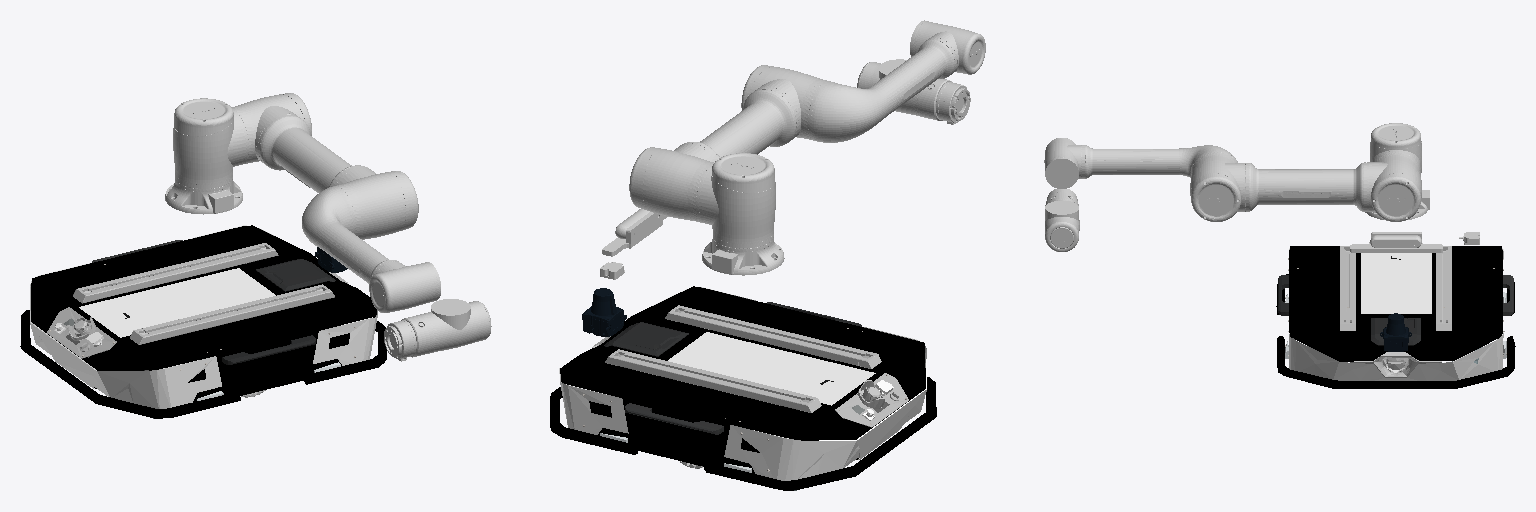
The robot description file, URDF, robot "tracer_jaka_zu5":
<?xml version="1.0"?>
<robot name="tracer_jaka_zu5">

  <link name="base_link">
    <visual>
      <origin xyz="0 0 0" rpy="1.57 0 0" />
      <geometry>
        <mesh filename="package://tracer_jaka_mujoco/urdf/meshes/tracer_base_link_no_wheel.dae" />
      </geometry>
    </visual>
    <collision name="base_collision_1">
      <origin xyz="0.2 -0.17 0.07" rpy="0 0 0" />
      <geometry>
        <sphere radius="0.17" />
      </geometry>
    </collision>
    <collision name="base_collision_2">
      <origin xyz="-0.2 -0.17 0.07" rpy="0 0 0" />
      <geometry>
        <sphere radius="0.17" />
      </geometry>
    </collision>
    <collision name="base_collision_3">
      <origin xyz="-0.2 0.17 0.07" rpy="0 0 0" />
      <geometry>
        <sphere radius="0.17" />
      </geometry>
    </collision>
    <collision name="base_collision_4">
      <origin xyz="0.2 0.17 0.07" rpy="0 0 0" />
      <geometry>
        <sphere radius="0.17" />
      </geometry>
    </collision>
    <inertial>
      <origin xyz="0 0 0" rpy="0 0 0" />
      <mass value="10" />
      <inertia ixx="0.01" ixy="0" ixz="0" iyy="0.01" iyz="0" izz="0.01" />
    </inertial>
  </link>

  <link name="inertial_link">
    <inertial>
      <origin xyz="0.015 0.0231317 0" rpy="0 0 0" />
      <mass value="132.389849" />
      <inertia ixx="0.1851961" ixy="0" ixz="0.0000001" iyy="0.3648937" iyz="-0.0003867" izz="0.2238685" />
    </inertial>
  </link>

  <link name="right_wheel_link">
    <visual>
      <origin xyz="0 0 0" rpy="0 0 0" />
      <geometry>
        <mesh filename="package://tracer_jaka_mujoco/urdf/meshes/tracer_wheel.dae" />
      </geometry>
    </visual>
    <inertial>
      <origin xyz="0 0 0" rpy="0 0 0" />
      <mass value="6" />
      <inertia ixx="0.7171" ixy="0" ixz="0" iyy="0.1361" iyz="0" izz="0.7171" />
    </inertial>
  </link>

  <link name="left_wheel_link">
    <visual>
      <origin xyz="0 0 0" rpy="0 0 0" />
      <geometry>
        <mesh filename="package://tracer_jaka_mujoco/urdf/meshes/tracer_wheel.dae" />
      </geometry>
    </visual>
    <inertial>
      <origin xyz="0 0 0" rpy="0 0 0" />
      <mass value="6" />
      <inertia ixx="0.7171" ixy="0" ixz="0" iyy="0.1361" iyz="0" izz="0.7171" />
    </inertial>
  </link>

  <link name="fl_castor_link">
    <visual>
      <origin xyz="0 0 0" rpy="0 0 0" />
      <geometry>
        <mesh filename="package://tracer_jaka_mujoco/urdf/meshes/castor_joint.dae" />
      </geometry>
    </visual>
    <inertial>
      <origin xyz="0 0 0" rpy="0 0 0" />
      <mass value="0.5" />
      <inertia ixx="0.001" ixy="0" ixz="0" iyy="0.001" iyz="0" izz="0.001" />
    </inertial>
  </link>

  <link name="fl_wheel_link">
    <visual>
      <origin xyz="0 0 0" rpy="0 0 0" />
      <geometry>
        <mesh filename="package://tracer_jaka_mujoco/urdf/meshes/castor.dae" />
      </geometry>
    </visual>
    <inertial>
      <origin xyz="0 0 0" rpy="0 0 0" />
      <mass value="0.3" />
      <inertia ixx="0.0001" ixy="0" ixz="0" iyy="0.0001" iyz="0" izz="0.0001" />
    </inertial>
  </link>

  <link name="fr_castor_link">
    <visual>
      <origin xyz="0 0 0" rpy="0 0 0" />
      <geometry>
        <mesh filename="package://tracer_jaka_mujoco/urdf/meshes/castor_joint.dae" />
      </geometry>
    </visual>
    <inertial>
      <origin xyz="0 0 0" rpy="0 0 0" />
      <mass value="0.5" />
      <inertia ixx="0.001" ixy="0" ixz="0" iyy="0.001" iyz="0" izz="0.001" />
    </inertial>
  </link>

  <link name="fr_wheel_link">
    <visual>
      <origin xyz="0 0 0" rpy="0 0 0" />
      <geometry>
        <mesh filename="package://tracer_jaka_mujoco/urdf/meshes/castor.dae" />
      </geometry>
    </visual>
    <inertial>
      <origin xyz="0 0 0" rpy="0 0 0" />
      <mass value="0.3" />
      <inertia ixx="0.0001" ixy="0" ixz="0" iyy="0.0001" iyz="0" izz="0.0001" />
    </inertial>
  </link>

  <link name="rr_castor_link">
    <visual>
      <origin xyz="0 0 0" rpy="0 0 0" />
      <geometry>
        <mesh filename="package://tracer_jaka_mujoco/urdf/meshes/castor_joint.dae" />
      </geometry>
    </visual>
    <inertial>
      <origin xyz="0 0 0" rpy="0 0 0" />
      <mass value="0.5" />
      <inertia ixx="0.001" ixy="0" ixz="0" iyy="0.001" iyz="0" izz="0.001" />
    </inertial>
  </link>

  <link name="rr_wheel_link">
    <visual>
      <origin xyz="0 0 0" rpy="0 0 0" />
      <geometry>
        <mesh filename="package://tracer_jaka_mujoco/urdf/meshes/castor.dae" />
      </geometry>
    </visual>
    <inertial>
      <origin xyz="0 0 0" rpy="0 0 0" />
      <mass value="0.3" />
      <inertia ixx="0.0001" ixy="0" ixz="0" iyy="0.0001" iyz="0" izz="0.0001" />
    </inertial>
  </link>

  <link name="rl_castor_link">
    <visual>
      <origin xyz="0 0 0" rpy="0 0 0" />
      <geometry>
        <mesh filename="package://tracer_jaka_mujoco/urdf/meshes/castor_joint.dae" />
      </geometry>
    </visual>
    <inertial>
      <origin xyz="0 0 0" rpy="0 0 0" />
      <mass value="0.5" />
      <inertia ixx="0.001" ixy="0" ixz="0" iyy="0.001" iyz="0" izz="0.001" />
    </inertial>
  </link>

  <link name="rl_wheel_link">
    <visual>
      <origin xyz="0 0 0" rpy="0 0 0" />
      <geometry>
        <mesh filename="package://tracer_jaka_mujoco/urdf/meshes/castor.dae" />
      </geometry>
    </visual>
    <inertial>
      <origin xyz="0 0 0" rpy="0 0 0" />
      <mass value="0.3" />
      <inertia ixx="0.0001" ixy="0" ixz="0" iyy="0.0001" iyz="0" izz="0.0001" />
    </inertial>
  </link>

  <link name="aluminium_base_link">
    <visual>
      <origin xyz="0 0 0" rpy="0 0 0" />
      <geometry>
        <mesh filename="package://tracer_jaka_mujoco/urdf/meshes/aluminium_base_link.STL" />
      </geometry>
      <material name="white">
        <color rgba="0.89412157 0.91372941 0.92549412 1.00000000"/>
      </material>
    </visual>
    <inertial>
      <origin xyz="0 0 0.1" rpy="0 0 0" />
      <mass value="0.2527392" />
      <inertia ixx="0.0008804" ixy="0" ixz="0" iyy="0.000884" iyz="0" izz="0.0000795" />
    </inertial>
  </link>

  <link name="aluminium_2_base_link">
    <visual>
      <origin xyz="0 0 0" rpy="0 0 0" />
      <geometry>
        <mesh filename="package://tracer_jaka_mujoco/urdf/meshes/aluminium_base_link.STL" />
      </geometry>
      <material name="white">
        <color rgba="0.89412157 0.91372941 0.92549412 1.00000000"/>
      </material>
    </visual>
    <inertial>
      <origin xyz="0 0 0.1" rpy="0 0 0" />
      <mass value="0.2527392" />
      <inertia ixx="0.0008804" ixy="0" ixz="0" iyy="0.000884" iyz="0" izz="0.0000795" />
    </inertial>
  </link>

  <link name="aluminium_3_base_link">
    <visual>
      <origin xyz="0 0 0" rpy="0 0 0" />
      <geometry>
        <mesh filename="package://tracer_jaka_mujoco/urdf/meshes/aluminium_base_link.STL" />
      </geometry>
      <material name="white">
        <color rgba="0.89412157 0.91372941 0.92549412 1.00000000"/>
      </material>
    </visual>
    <inertial>
      <origin xyz="0 0 0.1" rpy="0 0 0" />
      <mass value="0.2527392" />
      <inertia ixx="0.0008804" ixy="0" ixz="0" iyy="0.000884" iyz="0" izz="0.0000795" />
    </inertial>
  </link>

  <link name="aluminium_4_base_link">
    <visual>
      <origin xyz="0 0 0" rpy="0 0 0" />
      <geometry>
        <mesh filename="package://tracer_jaka_mujoco/urdf/meshes/aluminium_base_link.STL" />
      </geometry>
      <material name="white">
        <color rgba="0.89412157 0.91372941 0.92549412 1.00000000"/>
      </material>
    </visual>
    <inertial>
      <origin xyz="0 0 0.1" rpy="0 0 0" />
      <mass value="0.2527392" />
      <inertia ixx="0.0008804" ixy="0" ixz="0" iyy="0.000884" iyz="0" izz="0.0000795" />
    </inertial>
  </link>

  <link name="urbase_base_link">
    <visual>
      <origin xyz="0 0 0" rpy="0 0 3.14" />
      <geometry>
        <mesh filename="package://tracer_jaka_mujoco/urdf/meshes/urbase_base_link.STL" />
      </geometry>
      <material name="plate_white">
        <color rgba="1.00000000 1.00000000 1.00000000 1.00000000"/>
      </material>
    </visual>
    <inertial>
      <origin xyz="-0.0821499 0 -0.0025001" rpy="0 0 0" />
      <mass value="0.9659606" />
      <inertia ixx="0.0122165" ixy="0" ixz="0" iyy="0.027604" iyz="0" izz="0.0398165" />
    </inertial>
  </link>

  <link name="base_footprint">
  </link>

  <link name="laser_link">
    <visual>
      <!-- Keep the CAD appearance rotated without rotating the scan frame. -->
      <origin xyz="0 0 0" rpy="0 0 3.1415" />
      <geometry>
        <!-- CAD mesh is in millimetres; laser_link remains at the scan origin. -->
        <mesh filename="package://tracer_jaka_mujoco/urdf/meshes/laser.STL" scale="0.001 0.001 0.001" />
      </geometry>
      <material name="lidar_dark"><color rgba="0.08 0.12 0.16 1" /></material>
    </visual>
  </link>



  <link name="jaka_base_link">
  </link>

  <link name="Link_0">
    <visual>
      <origin xyz="0 0 0" rpy="0 0 0" />
      <geometry>
        <mesh filename="package://tracer_jaka_mujoco/urdf/meshes/Link_0.STL" />
      </geometry>
      <material name="silver">
        <color rgba="0.84706275 0.84706275 0.84706275 1.00000000"/>
      </material>
    </visual>
    <collision name="link0_sphere">
      <origin xyz="0 0 0.12" rpy="0 0 0" />
      <geometry>
        <sphere radius="0.085" />
      </geometry>
    </collision>
    <inertial>
      <origin xyz="0.0009637 0 0.019555" rpy="0 0 0" />
      <mass value="1.0392" />
      <inertia ixx="0.0048763" ixy="0" ixz="0" iyy="0.0068003" iyz="0" izz="0.010618" />
    </inertial>
  </link>

  <link name="Link_1">
    <visual>
      <origin xyz="0 0 0" rpy="0 0 0" />
      <geometry>
        <mesh filename="package://tracer_jaka_mujoco/urdf/meshes/Link_1.STL" />
      </geometry>
      <material name="silver">
      </material>
    </visual>
    <collision name="link1_sphere">
      <origin xyz="0 0.17 0" rpy="0 0 0" />
      <geometry>
        <sphere radius="0.075" />
      </geometry>
    </collision>
    <inertial>
      <origin xyz="0 0.0033226 -0.001509" rpy="0 0 0" />
      <mass value="1.5135" />
      <inertia ixx="0.044302" ixy="0" ixz="0" iyy="0.043091" iyz="0" izz="0.030523" />
    </inertial>
  </link>

  <link name="Link_2">
    <visual>
      <origin xyz="0 0 0.14315" rpy="0 0 0" />
      <geometry>
        <mesh filename="package://tracer_jaka_mujoco/urdf/meshes/Link_2.STL" />
      </geometry>
      <material name="silver">
      </material>
    </visual>
    <collision name="link2_sphere_1">
      <origin xyz="0.14 0 0" rpy="0 0 0" />
      <geometry>
        <sphere radius="0.065" />
      </geometry>
    </collision>
    <collision name="link2_sphere_2">
      <origin xyz="0.27 0 0" rpy="0 0 0" />
      <geometry>
        <sphere radius="0.065" />
      </geometry>
    </collision>
    <inertial>
      <origin xyz="0.215 0 -0.14315" rpy="0 0 0" />
      <mass value="1.5847" />
      <inertia ixx="0.10377" ixy="0" ixz="0" iyy="1.5964" iyz="0" izz="1.5689" />
    </inertial>
  </link>

  <link name="Link_3">
    <visual>
      <origin xyz="0 0 0" rpy="0 0 0" />
      <geometry>
        <mesh filename="package://tracer_jaka_mujoco/urdf/meshes/Link_3.STL" />
      </geometry>
      <material name="silver">
      </material>
    </visual>
    <collision name="link3_elbow_upper">
      <origin xyz="0 0 -0.02" rpy="0 0 0" />
      <geometry>
        <sphere radius="0.055" />
      </geometry>
    </collision>
    <collision name="link3_elbow_lower">
      <origin xyz="0 0 -0.16" rpy="0 0 0" />
      <geometry>
        <sphere radius="0.08" />
      </geometry>
    </collision>
    <collision name="link3_sphere_1">
      <origin xyz="0.12 0 0" rpy="0 0 0" />
      <geometry>
        <sphere radius="0.05" />
      </geometry>
    </collision>
    <collision name="link3_sphere_2">
      <origin xyz="0.24 0 0" rpy="0 0 0" />
      <geometry>
        <sphere radius="0.05" />
      </geometry>
    </collision>
    <collision name="link3_sphere_3">
      <origin xyz="0.36 0 0" rpy="0 0 0" />
      <geometry>
        <sphere radius="0.06" />
      </geometry>
    </collision>
    <inertial>
      <origin xyz="0.19087 0 -0.010587" rpy="0 0 0" />
      <mass value="1.8069" />
      <inertia ixx="0.022066" ixy="0" ixz="0" iyy="0.41632" iyz="0" izz="0.41071" />
    </inertial>
  </link>

  <link name="Link_4">
    <visual>
      <origin xyz="0 0 0" rpy="0 0 0" />
      <geometry>
        <mesh filename="package://tracer_jaka_mujoco/urdf/meshes/Link_4.STL" />
      </geometry>
      <material name="silver">
      </material>
    </visual>
    <collision name="link4_sphere">
      <origin xyz="0 0 0" rpy="0 0 0" />
      <geometry>
        <sphere radius="0.05" />
      </geometry>
    </collision>
    <inertial>
      <origin xyz="0 -0.0058004 0.0026717" rpy="0 0 0" />
      <mass value="1.5525" />
      <inertia ixx="0.0092564" ixy="0" ixz="0" iyy="0.0052251" iyz="0" izz="0.0089683" />
    </inertial>
  </link>

  <link name="Link_5">
    <visual>
      <origin xyz="0 0 0" rpy="0 0 0" />
      <geometry>
        <mesh filename="package://tracer_jaka_mujoco/urdf/meshes/Link_5.STL" />
      </geometry>
      <material name="silver">
      </material>
    </visual>
    <collision name="link5_sphere">
      <origin xyz="0 -0.035 0" rpy="0 0 0" />
      <geometry>
        <sphere radius="0.05" />
      </geometry>
    </collision>
    <inertial>
      <origin xyz="0 -0.0028889 -0.0023424" rpy="0 0 0" />
      <mass value="1.3339" />
      <inertia ixx="0.012993" ixy="0" ixz="0" iyy="0.0058454" iyz="0" izz="0.0127" />
    </inertial>
  </link>

  <link name="Link_6">
    <visual>
      <origin xyz="0 0 0" rpy="0 0 0" />
      <geometry>
        <mesh filename="package://tracer_jaka_mujoco/urdf/meshes/Link_6.STL" />
      </geometry>
      <material name="silver">
      </material>
    </visual>
    <collision name="link6_sphere">
      <origin xyz="0 0 -0.01" rpy="0 0 0" />
      <geometry>
        <sphere radius="0.045" />
      </geometry>
    </collision>
    <inertial>
      <origin xyz="0 0 -0.021245" rpy="0 0 0" />
      <mass value="1.4169" />
      <inertia ixx="0.0007185" ixy="0" ixz="0" iyy="0.0007238" iyz="0" izz="0.0011337" />
    </inertial>
  </link>

  <link name="Link_6_45">
  </link>

  <link name="jk_se_vi_200_link">
    <visual>
      <origin xyz="0 0 -0.0315" rpy="0 0 0" />
      <geometry>
        <mesh filename="package://tracer_jaka_mujoco/urdf/meshes/jk_se_vi_200_link.stl" scale="0.001 0.001 0.001" />
      </geometry>
      <material name="silver">
      </material>
    </visual>
    <inertial>
      <origin xyz="0 0 0.0051933" rpy="0 0 0" />
      <mass value="0.1139765" />
      <inertia ixx="0.0000565" ixy="0" ixz="0" iyy="0.0000549" iyz="0" izz="0.0000865" />
    </inertial>
  </link>

  <link name="tool0_and_camera_link">
    <visual>
      <origin xyz="0 0 0" rpy="0 0 0" />
      <geometry>
        <mesh filename="package://tracer_jaka_mujoco/urdf/meshes/tool0.STL" scale="0.001 0.001 0.001" />
      </geometry>
      <material name="silver">
      </material>
    </visual>
    <collision name="tool_sphere_1">
      <origin xyz="0 0.01 0.085" rpy="0 0 0" />
      <geometry>
        <sphere radius="0.045" />
      </geometry>
    </collision>
    <collision name="tool_sphere_2">
      <origin xyz="0 0.01 0.225" rpy="0 0 0" />
      <geometry>
        <sphere radius="0.045" />
      </geometry>
    </collision>
    <inertial>
      <origin xyz="0 0 0" rpy="0 0 0" />
      <mass value="0.7" />
      <inertia ixx="0.001" ixy="0" ixz="0" iyy="0.001" iyz="0" izz="0.001" />
    </inertial>
  </link>

  <link name="d435i_link">
    <visual>
      <origin xyz="0 0 0" rpy="0 0 0" />
      <geometry>
        <mesh filename="package://tracer_jaka_mujoco/urdf/meshes/realsense_d435.stl" />
      </geometry>
      <material name="silver">
      </material>
    </visual>
    <collision name="d435i_sphere">
      <origin xyz="0 0 0" rpy="0 0 0" />
      <geometry>
        <sphere radius="0.035" />
      </geometry>
    </collision>
  </link>

  <link name="tool0">
  </link>

    <link name="imu_link">
    <visual>
      <!-- The CAD origin is 45 mm above the IMU mounting plane. -->
      <origin xyz="0 0 -0.045" rpy="0 0 -1.5708" />
      <geometry>
        <!-- CAD mesh is in millimetres. -->
        <mesh filename="package://tracer_jaka_mujoco/urdf/meshes/imu.STL" scale="0.001 0.001 0.001" />
      </geometry>
      <material name="silver">
      </material>
    </visual>
  </link>

  <link name="d455_link">
    <visual>
      <!--
        Keep the CAD-only axis correction on the mesh.  d455_link itself must
        follow REP-103 (+X forward, +Y left, +Z up), because realsense2_camera
        derives the depth/color optical frames from that convention.
      -->
      <origin xyz="0 0 0" rpy="1.5708 0 1.5708" />
      <geometry>
        <!-- D455 CAD mesh is in millimetres. -->
        <mesh filename="package://tracer_jaka_mujoco/urdf/meshes/d455.STL" scale="0.001 0.001 0.001" />
      </geometry>
      <material name="silver">
      </material>
    </visual>
  </link>


  <joint name="inertial_joint" type="fixed">
    <parent link="base_link" />
    <child link="inertial_link" />
    <origin xyz="0 0 0" rpy="0 0 0" />
  </joint>

  <joint name="right_wheel" type="fixed">
    <parent link="base_link" />
    <child link="right_wheel_link" />
    <origin xyz="0 -0.17 -0.082" rpy="0 0 0" />
  </joint>

  <joint name="left_wheel" type="fixed">
    <parent link="base_link" />
    <child link="left_wheel_link" />
    <origin xyz="0 0.17 -0.082" rpy="0 0 0" />
  </joint>

  <joint name="fl_castor_wheel" type="fixed">
    <parent link="base_link" />
    <child link="fl_castor_link" />
    <origin xyz="0.18955 0.17 -0.0380886" rpy="-1.57 0 0" />
  </joint>

  <joint name="fl_wheel" type="fixed">
    <parent link="fl_castor_link" />
    <child link="fl_wheel_link" />
    <origin xyz="-0.0218084 0.0689114 0" rpy="0 0 0" />
  </joint>

  <joint name="fr_castor_wheel" type="fixed">
    <parent link="base_link" />
    <child link="fr_castor_link" />
    <origin xyz="0.18955 -0.17 -0.0380886" rpy="-1.57 0 0" />
  </joint>

  <joint name="fr_wheel" type="fixed">
    <parent link="fr_castor_link" />
    <child link="fr_wheel_link" />
    <origin xyz="-0.0218084 0.0689114 0" rpy="0 0 0" />
  </joint>

  <joint name="rr_castor_wheel" type="fixed">
    <parent link="base_link" />
    <child link="rr_castor_link" />
    <origin xyz="-0.18955 -0.17 -0.0380886" rpy="-1.57 0 0" />
  </joint>

  <joint name="rr_wheel" type="fixed">
    <parent link="rr_castor_link" />
    <child link="rr_wheel_link" />
    <origin xyz="-0.0218084 0.0689114 0" rpy="0 0 0" />
  </joint>

  <joint name="rl_castor_wheel" type="fixed">
    <parent link="base_link" />
    <child link="rl_castor_link" />
    <origin xyz="-0.18955 0.17 -0.0380886" rpy="-1.57 0 0" />
  </joint>

  <joint name="rl_wheel" type="fixed">
    <parent link="rl_castor_link" />
    <child link="rl_wheel_link" />
    <origin xyz="-0.0218084 0.0689114 0" rpy="0 0 0" />
  </joint>

  <joint name="joint_aluminium_base_link" type="fixed">
    <parent link="base_link" />
    <child link="aluminium_base_link" />
    <origin xyz="-0.142 0.115 0.016" rpy="0 0 1.57" />
  </joint>

  <joint name="joint_aluminium_2_base_link" type="fixed">
    <parent link="base_link" />
    <child link="aluminium_2_base_link" />
    <origin xyz="-0.142 -0.115 0.016" rpy="0 0 1.57" />
  </joint>

  <joint name="joint_aluminium_3_base_link" type="fixed">
    <parent link="base_link" />
    <child link="aluminium_3_base_link" />
    <origin xyz="0.145 0.115 0.016" rpy="0 0 1.57" />
  </joint>

  <joint name="joint_aluminium_4_base_link" type="fixed">
    <parent link="base_link" />
    <child link="aluminium_4_base_link" />
    <origin xyz="0.145 -0.115 0.016" rpy="0 0 1.57" />
  </joint>

  <joint name="tracer_base" type="fixed">
    <parent link="base_link" />
    <child link="urbase_base_link" />
    <origin xyz="0 0 0.218" rpy="0 0 3.14" />
  </joint>

  <joint name="base_footprint_to_base_link" type="fixed">
    <parent link="base_footprint" />
    <child link="base_link" />
    <origin xyz="0 0 0.147" rpy="0 0 0" />
  </joint>

  <joint name="base_to_laser" type="fixed">
    <parent link="base_link" />
    <child link="laser_link" />
    <!-- laser_link +X is the robot forward direction. -->
    <origin xyz="0.31 0 0.03" rpy="0 0 0" />
  </joint>

  <joint name="base_to_imu" type="fixed">
    <parent link="base_link" />
    <child link="imu_link" />
    <origin xyz="0.185 0.185 0.23" rpy="0 0 3.1415" />
  </joint>

  <joint name="base_to_d455" type="fixed">
    <parent link="base_link" />
    <child link="d455_link" />
    <!-- ROS camera base frame: +X forward, +Y left, +Z up. -->
    <origin xyz="0.25 0 0.24" rpy="0 0 0" />
  </joint>

  <joint name="base_to_jaka" type="fixed">
    <parent link="base_link" />
    <child link="jaka_base_link" />
    <origin xyz="0 0 0.221" rpy="0 0 -1.57" />
  </joint>

  <joint name="fixed" type="fixed">
    <parent link="jaka_base_link" />
    <child link="Link_0" />
    <origin xyz="0 0 0" rpy="0 0 0" />
  </joint>

  <joint name="fixed_2" type="fixed">
    <parent link="Link_6" />
    <child link="Link_6_45" />
    <origin xyz="0 0 0" rpy="0 0 -0.7854" />
  </joint>

  <joint name="joint_1" type="revolute">
    <parent link="Link_0" />
    <child link="Link_1" />
    <origin xyz="0 0 0.12015" rpy="0 0 0" />
    <axis xyz="0 0 1" />
    <limit lower="-6.28" upper="6.28" effort="2000" velocity="3.14" />
    <dynamics damping="1" friction="0.5" />
  </joint>

  <joint name="joint_2" type="revolute">
    <parent link="Link_1" />
    <child link="Link_2" />
    <origin xyz="0 0.14315 0" rpy="1.5708 0 0" />
    <axis xyz="0 0 1" />
    <limit lower="-1.48" upper="4.62" effort="5000" velocity="3.14" />
    <dynamics damping="1" friction="0.5" />
  </joint>

  <joint name="joint_3" type="revolute">
    <parent link="Link_2" />
    <child link="Link_3" />
    <origin xyz="0.43 0 0.14315" rpy="0 0 0" />
    <axis xyz="0 0 1" />
    <limit lower="-3.05" upper="3.05" effort="5000" velocity="3.14" />
    <dynamics damping="1" friction="0.5" />
  </joint>

  <joint name="joint_4" type="revolute">
    <parent link="Link_3" />
    <child link="Link_4" />
    <origin xyz="0.3685 -0.0000119 -0.114" rpy="0 0 0" />
    <axis xyz="0 0 1" />
    <limit lower="-1.48" upper="4.62" effort="2000" velocity="3.14" />
    <dynamics damping="0.5" friction="0.3" />
  </joint>

  <joint name="joint_5" type="revolute">
    <parent link="Link_4" />
    <child link="Link_5" />
    <origin xyz="0 -0.1135 0" rpy="1.5708 0 0" />
    <axis xyz="0 0 1" />
    <limit lower="-6.28" upper="6.28" effort="3000" velocity="3.14" />
    <dynamics damping="0.5" friction="0.3" />
  </joint>

  <joint name="joint_6" type="revolute">
    <parent link="Link_5" />
    <child link="Link_6" />
    <origin xyz="0 0.107 0" rpy="-1.5708 0 0" />
    <axis xyz="0 0 1" />
    <limit lower="-6.28" upper="6.28" effort="1000" velocity="3.14" />
    <dynamics damping="0.5" friction="0.3" />
  </joint>

  <joint name="jk_se_vi_200_joint" type="fixed">
    <parent link="Link_6_45" />
    <child link="jk_se_vi_200_link" />
    <origin xyz="0 0 0.0315" rpy="0 0 0.785398" />
  </joint>

  <joint name="tool0_and_camera_link_joint" type="fixed">
    <parent link="jk_se_vi_200_link" />
    <child link="tool0_and_camera_link" />
    <origin xyz="0 0 0" rpy="0 0 -0.7853" />
  </joint>

  <joint name="d435i_joint" type="fixed">
    <parent link="tool0_and_camera_link" />
    <child link="d435i_link" />
    <origin xyz="0 -0.085 0.03" rpy="0 0 3.14" />
  </joint>

  <joint name="tool0_joint" type="fixed">
    <parent link="tool0_and_camera_link" />
    <child link="tool0" />
    <origin xyz="0 0 0.27" rpy="0 0 0" />
  </joint>


</robot>

--- Facts derived from the render (not from the file) ---
3 views of the same robot in one strip: view 1: azimuth 30°, elevation 25°; view 2: azimuth 150°, elevation 25°; view 3: azimuth 270°, elevation 25° (orthographic).
Model tracer_jaka_zu5 with 34 links and 33 joints (6 revolute, 27 fixed), rooted at base_footprint, posed all joints at 0.
Visible links, largest first — view 1: base_link, Link_2, Link_3, Link_1, Link_5, Link_0, jk_se_vi_200_link, Link_6; view 2: base_link, Link_2, Link_3, Link_1, Link_0, laser_link, d455_link, jk_se_vi_200_link, Link_5, Link_6; view 3: base_link, Link_2, Link_3, Link_5, Link_1, d455_link, laser_link.
Link boxes in pixels (x1,y1,x2,y2): base_link: [20, 225, 386, 418]; Link_2: [232, 93, 418, 239]; Link_3: [302, 187, 440, 312]; Link_1: [173, 98, 245, 191]; Link_5: [420, 299, 491, 353]; Link_0: [165, 181, 242, 214]; jk_se_vi_200_link: [384, 320, 416, 361]; Link_6: [401, 315, 431, 357]; base_link: [550, 286, 936, 490]; Link_2: [629, 65, 830, 223]; Link_3: [811, 20, 985, 142]; Link_1: [699, 153, 775, 251]; Link_0: [702, 239, 784, 275]; laser_link: [582, 288, 626, 336]; d455_link: [602, 209, 667, 256]; jk_se_vi_200_link: [936, 82, 970, 124]; Link_5: [857, 59, 924, 117]; Link_6: [920, 79, 951, 120]; base_link: [1276, 242, 1515, 388]; Link_2: [1190, 151, 1421, 221]; Link_3: [1044, 138, 1237, 188]; Link_5: [1045, 198, 1079, 251]; Link_1: [1370, 123, 1421, 172]; d455_link: [1350, 232, 1442, 252]; laser_link: [1380, 313, 1411, 351].
Bounding box of the posed robot: 0.6852 × 1.13 × 0.5629 m (x, y, z).
Meshes: 19 distinct files referenced, 21 mesh visuals loaded (10 binary STL, 4 Collada DAE); not drawn: 8 (reference not matched to a file when rendering).
